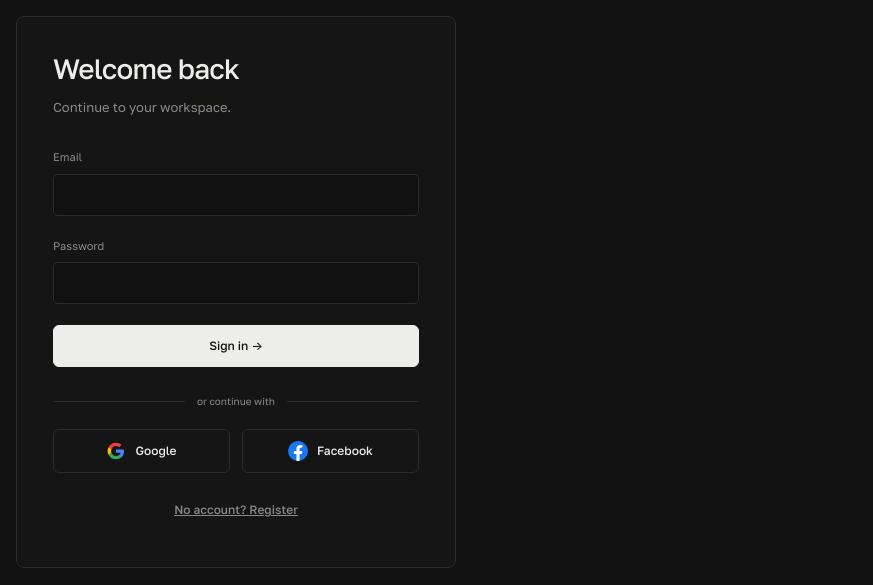
Test: authentication error experience › shows the exact 4xx server message in a dismissible popup and keeps the form
The image size is (873, 585).
Type "person@example.test" into the field labelled "Email" at (236, 195), box [53,174,419,216]
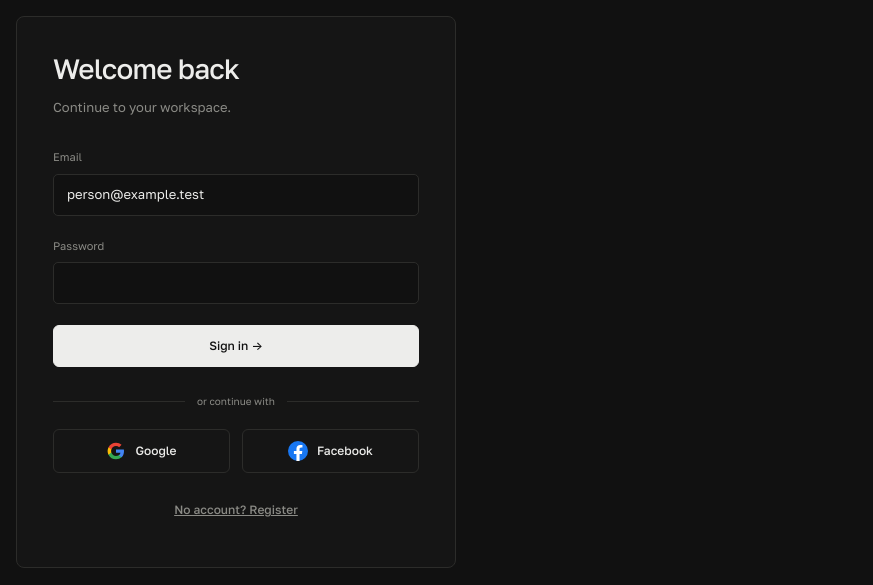
Type "test-password" into the password field labelled "Password" at (236, 283), box [53,262,419,304]
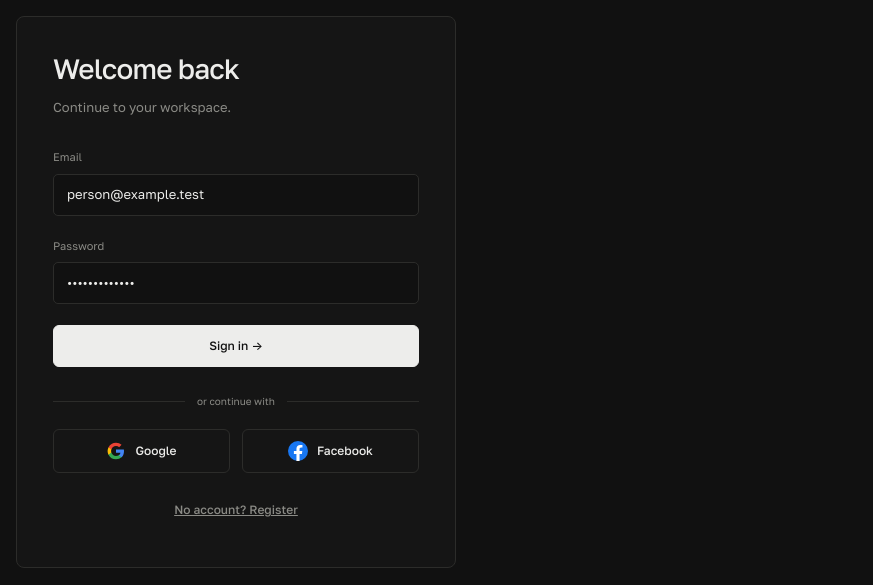
Click the button "Sign in →" at (236, 346), box [53,325,419,367]
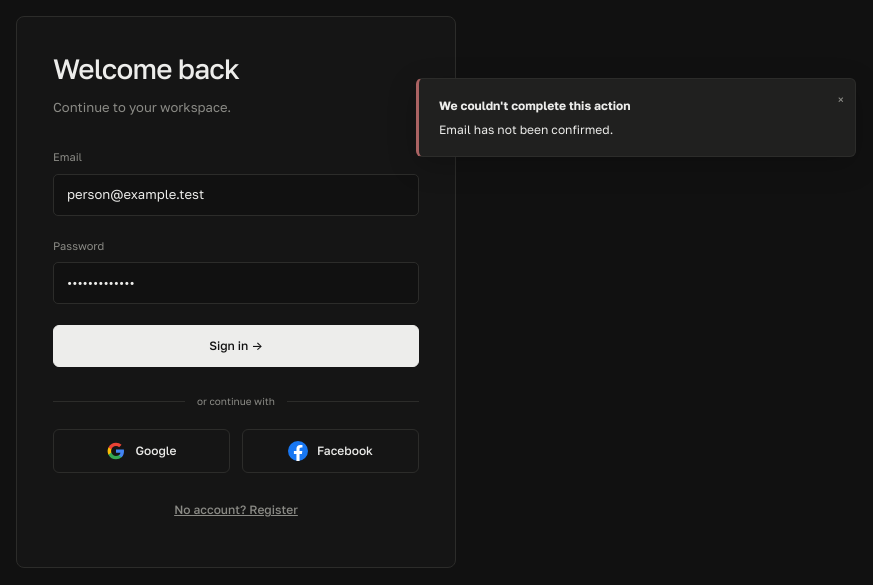
Check: the message shows "Email has not been confirmed.", box [439,122,613,137]
Click the button named "Dismiss message" at (841, 100), box [834,87,847,112]
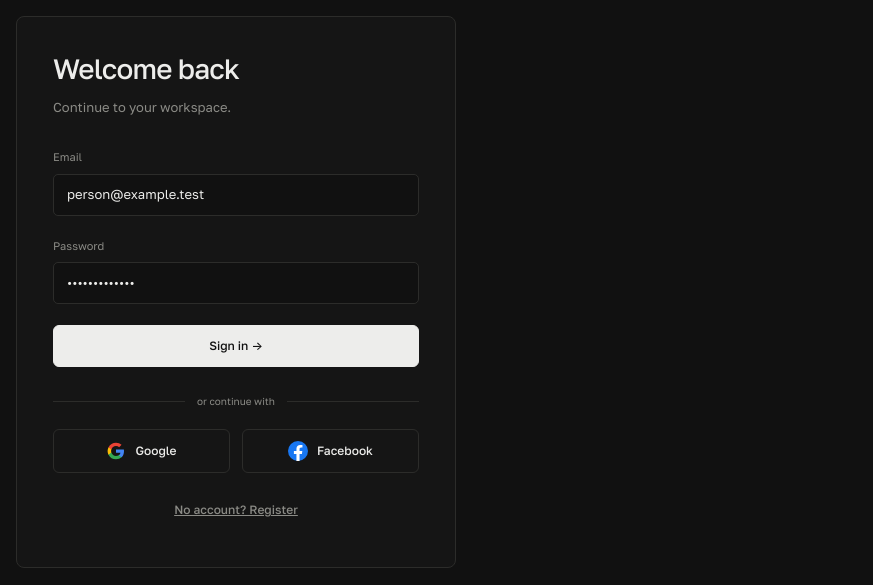
Check: the heading "Welcome back" is shown, box [53,52,239,85]
Check: the message "× We couldn't complete this action Email has not been confirmed." is gone
